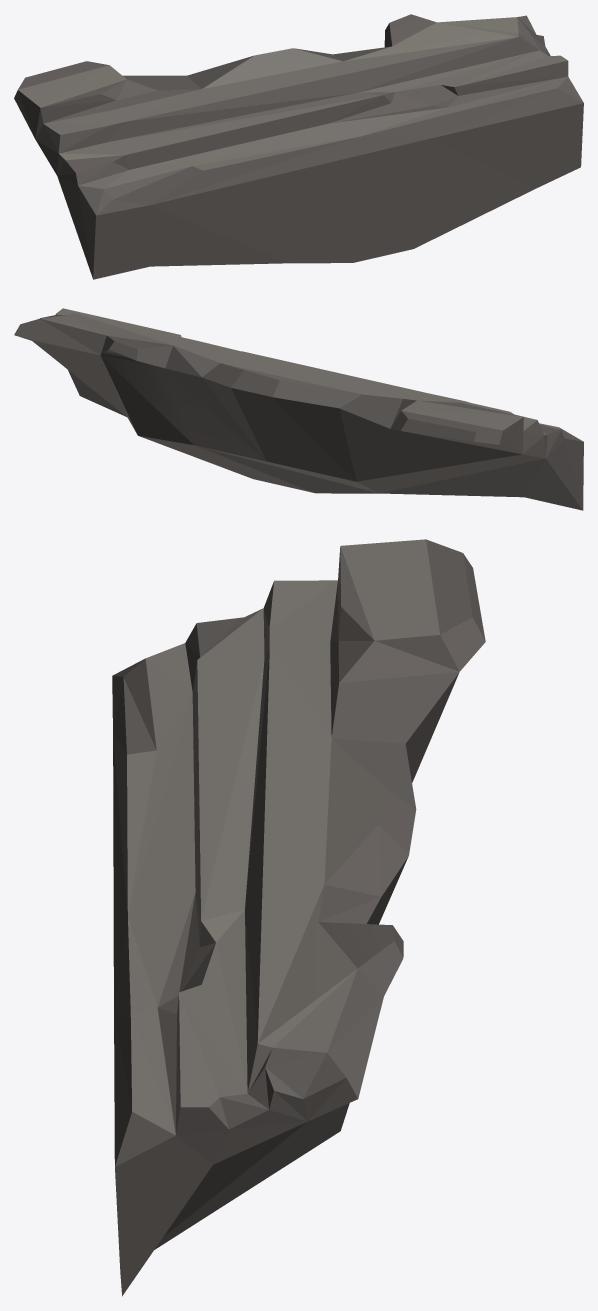
The model's file is SM_Env_Stairs_Broken_01.FBX.
The picture shows the model from 3 angles, top to bottom: view 1: azimuth 30°, elevation 25°; view 2: azimuth 150°, elevation 25°; view 3: azimuth 270°, elevation 25°; orthographic projection. The views are drawn at different scales.
Parts seen in each view (by area): view 1: SM_Env_Stairs_Broken_01; view 2: SM_Env_Stairs_Broken_01; view 3: SM_Env_Stairs_Broken_01.
Part boxes in pixels (box(x1,y1,x2,y2)): SM_Env_Stairs_Broken_01: box(14, 14, 583, 279); SM_Env_Stairs_Broken_01: box(14, 308, 583, 510); SM_Env_Stairs_Broken_01: box(112, 539, 485, 1296).
Size of what is drawn, in the model's own units: 499 by 164 by 176.
